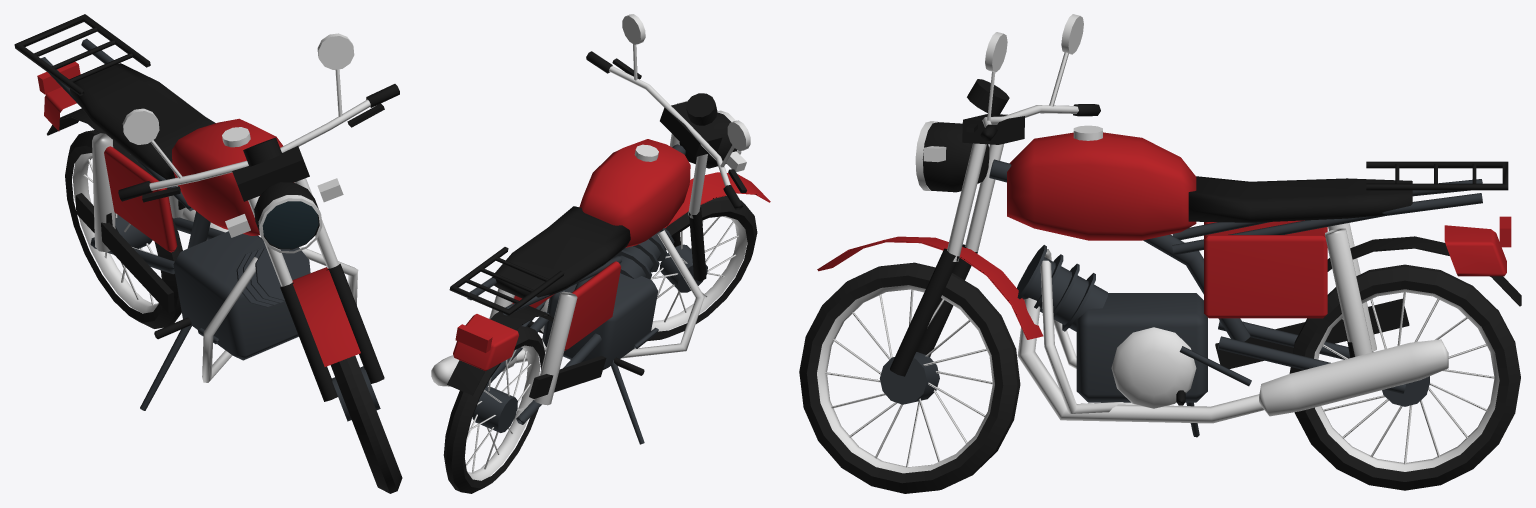
Rendered from motorbike.glb.
3 views of the same model, side by side, from view 1: azimuth 30°, elevation 25°; view 2: azimuth 150°, elevation 25°; view 3: azimuth 270°, elevation 25° (orthographic). The views are drawn at different scales.
Visible parts, largest first — view 1: motorbike; view 2: motorbike; view 3: motorbike.
Boxes of the visible parts, x1=… form: motorbike: x1=14, y1=14, x2=402, y2=493; motorbike: x1=431, y1=14, x2=770, y2=493; motorbike: x1=799, y1=14, x2=1521, y2=493.
Size of the model in its own units: 0.7651 by 1.31 by 1.87.
